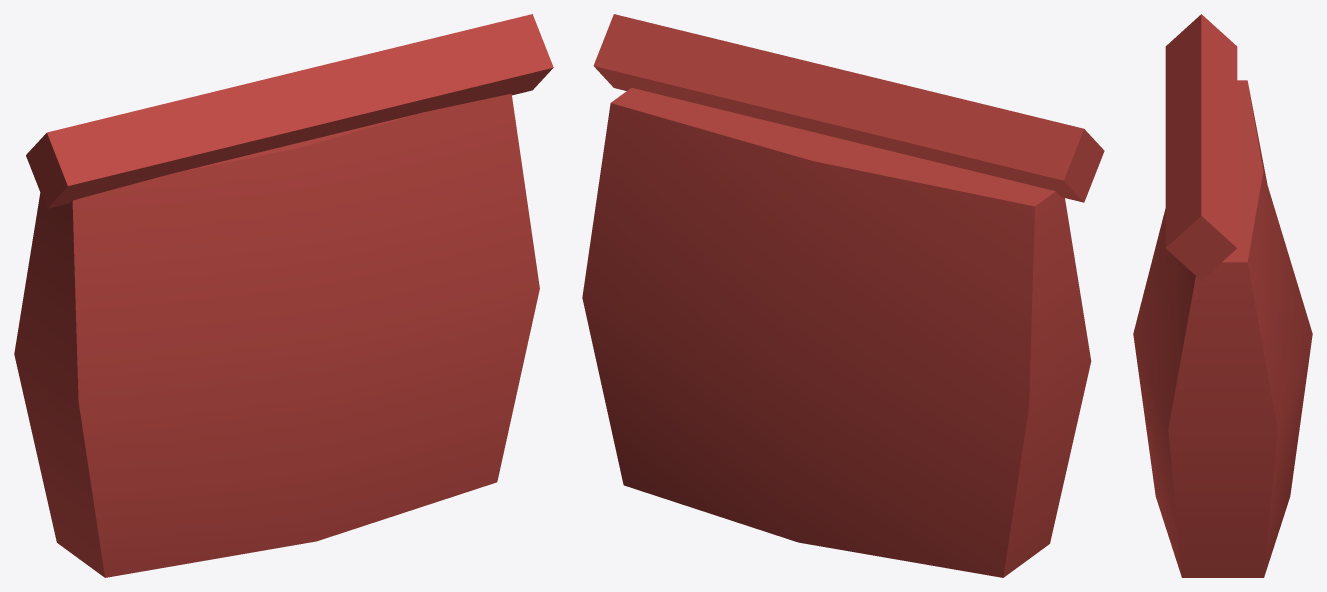
The model's file is roll_pannier_lod2.glb.
3 renders of one model, left to right at view 1: azimuth 30°, elevation 25°; view 2: azimuth 150°, elevation 25°; view 3: azimuth 270°, elevation 25°, orthographic. The views are drawn at different scales.
Parts seen in each view (by area): view 1: roll_pannier_lod2; view 2: roll_pannier_lod2; view 3: roll_pannier_lod2.
Part boxes in pixels (x1,y1,x2,y2): roll_pannier_lod2: (14,14,553,577); roll_pannier_lod2: (582,14,1104,577); roll_pannier_lod2: (1133,14,1312,577).
Bounding box in the file's own units: 0.399 × 0.352 × 0.15.
